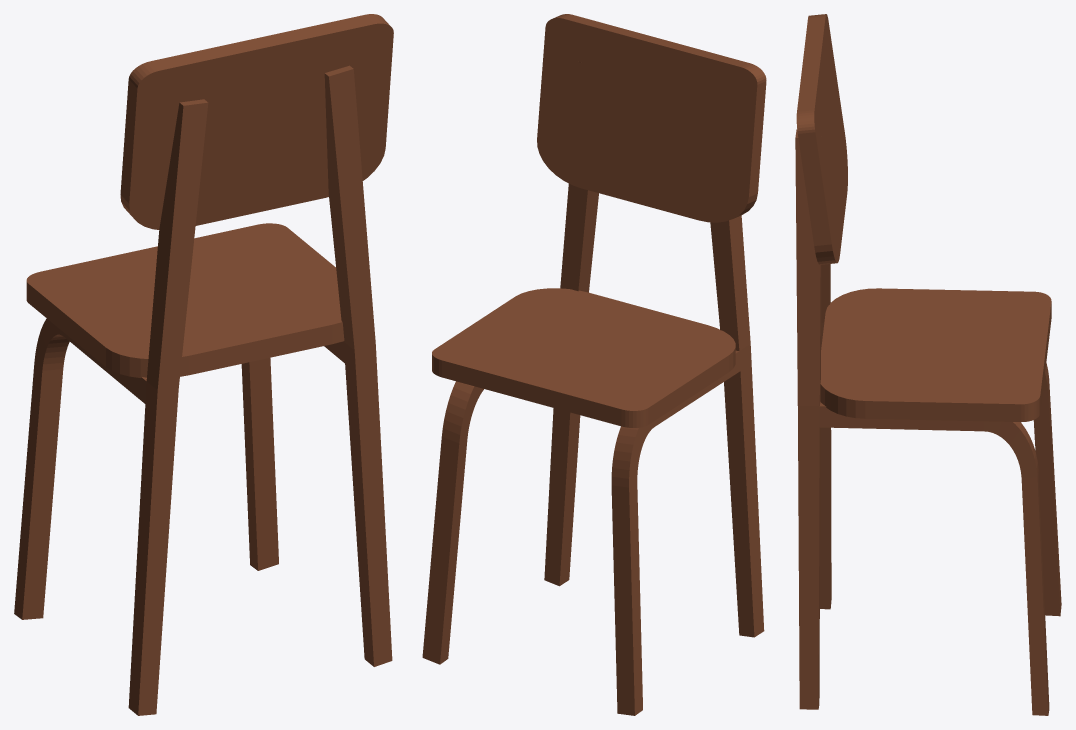
Rendered from chair.glb.
3 views of the same model, side by side, from view 1: azimuth 30°, elevation 25°; view 2: azimuth 150°, elevation 25°; view 3: azimuth 270°, elevation 25° (orthographic). The views are drawn at different scales.
Visible parts, largest first — view 1: Cube.048, Cube.049, Cube.050, Cube.022; view 2: Cube.048, Cube.049, Cube.050, Cube.022; view 3: Cube.049, Cube.022, Cube.048, Cube.050.
Boxes of the visible parts, x1=… form: Cube.048: x1=120, y1=14, x2=393, y2=229; Cube.049: x1=26, y1=223, x2=344, y2=377; Cube.050: x1=14, y1=99, x2=208, y2=715; Cube.022: x1=241, y1=65, x2=392, y2=666; Cube.048: x1=537, y1=14, x2=766, y2=222; Cube.049: x1=432, y1=288, x2=735, y2=427; Cube.050: x1=611, y1=215, x2=764, y2=715; Cube.022: x1=422, y1=61, x2=598, y2=664; Cube.049: x1=820, y1=288, x2=1051, y2=422; Cube.022: x1=795, y1=129, x2=1049, y2=715; Cube.048: x1=796, y1=14, x2=847, y2=264; Cube.050: x1=820, y1=264, x2=1061, y2=616.
Size of the model in its own units: 0.0264 by 0.0617 by 0.0251.
